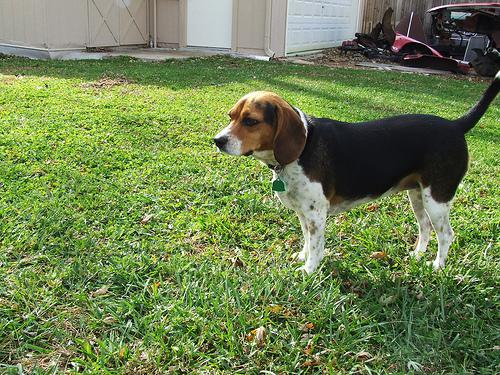dog-beagle: (213, 89, 305, 163)
